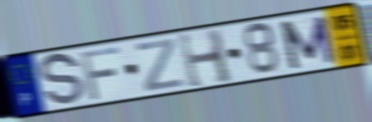8: (241, 21, 282, 78)
F: (78, 45, 123, 102)
H: (176, 27, 236, 91)
M: (276, 14, 339, 72)
S: (38, 50, 87, 109)
Z: (134, 36, 185, 94)
